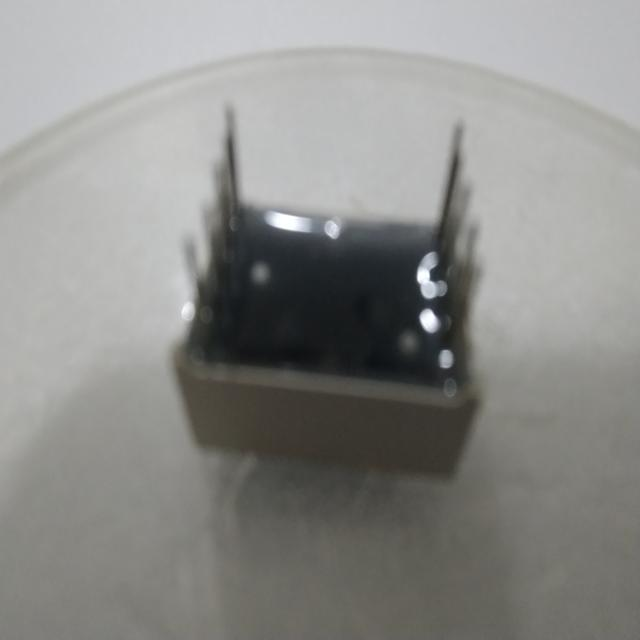7_segments: (167, 89, 496, 498)
